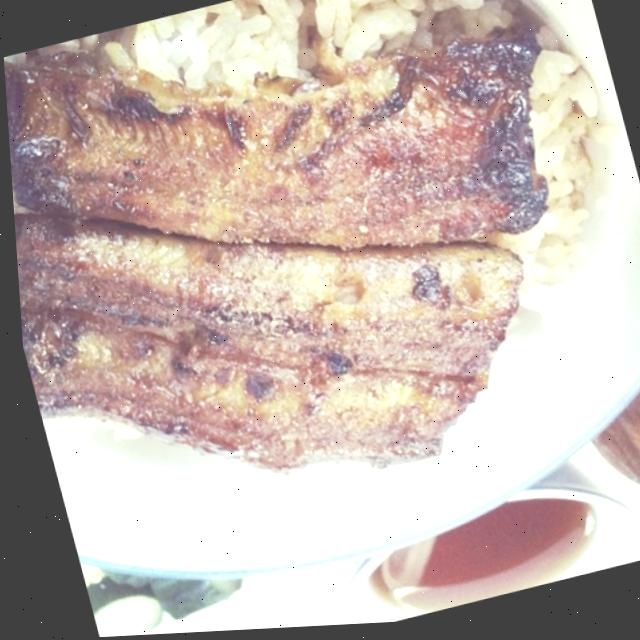带馅早点: (375, 67, 640, 440)
汤锅炖物: (70, 367, 408, 638)
米饭主食: (323, 356, 640, 628)
